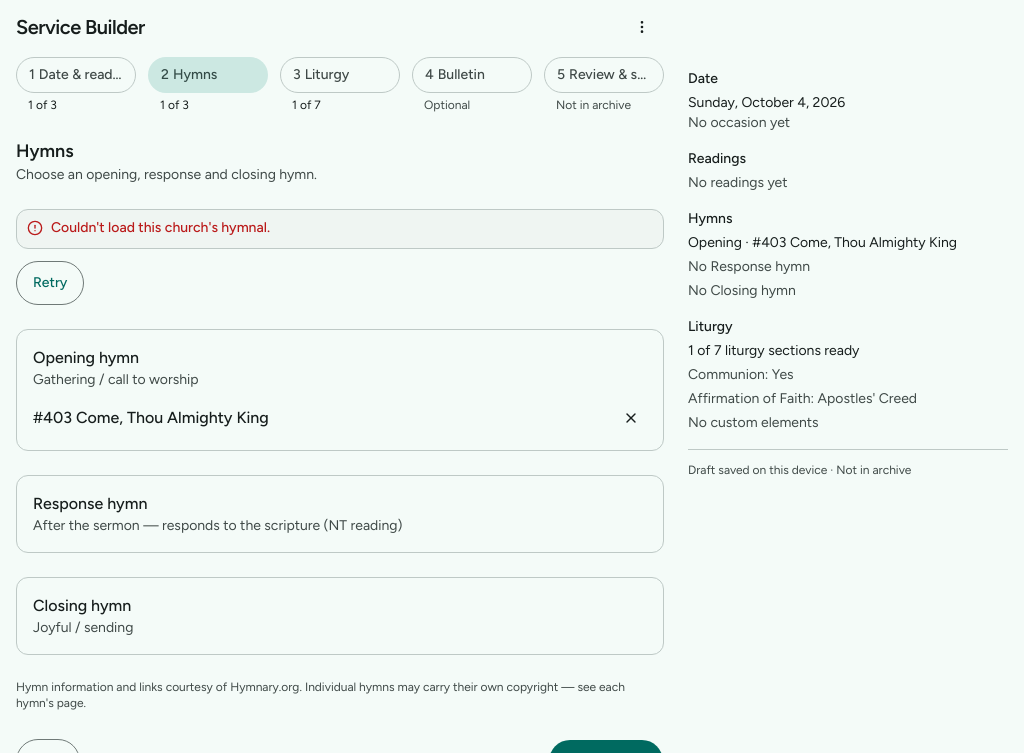
Scenario: the Hymns step (S User experience) › shows Couldn't load this church's hymnal with Retry when the list fails, never the empty state
Expected: the text "Couldn't load this church's hymnal." is shown, [51,219,270,236]
Expected: the text "#403 Come, Thou Almighty King" is shown, [33,406,269,430]
Step 1. Click the button "Retry" → {"x": 50, "y": 283}, box [16,261,84,305]
(page scrolled)
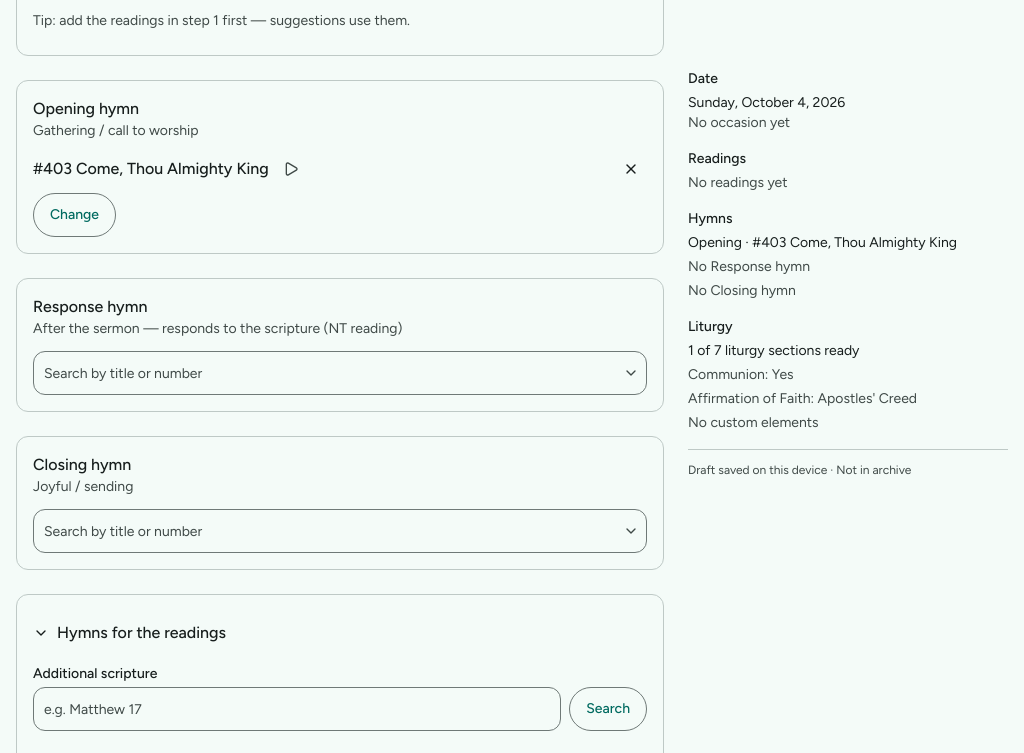
Expected: the dropdown named "Response hymn" is enabled, [34,352,619,394]
Expected: the text "Couldn't load this church's hymnal." is gone
